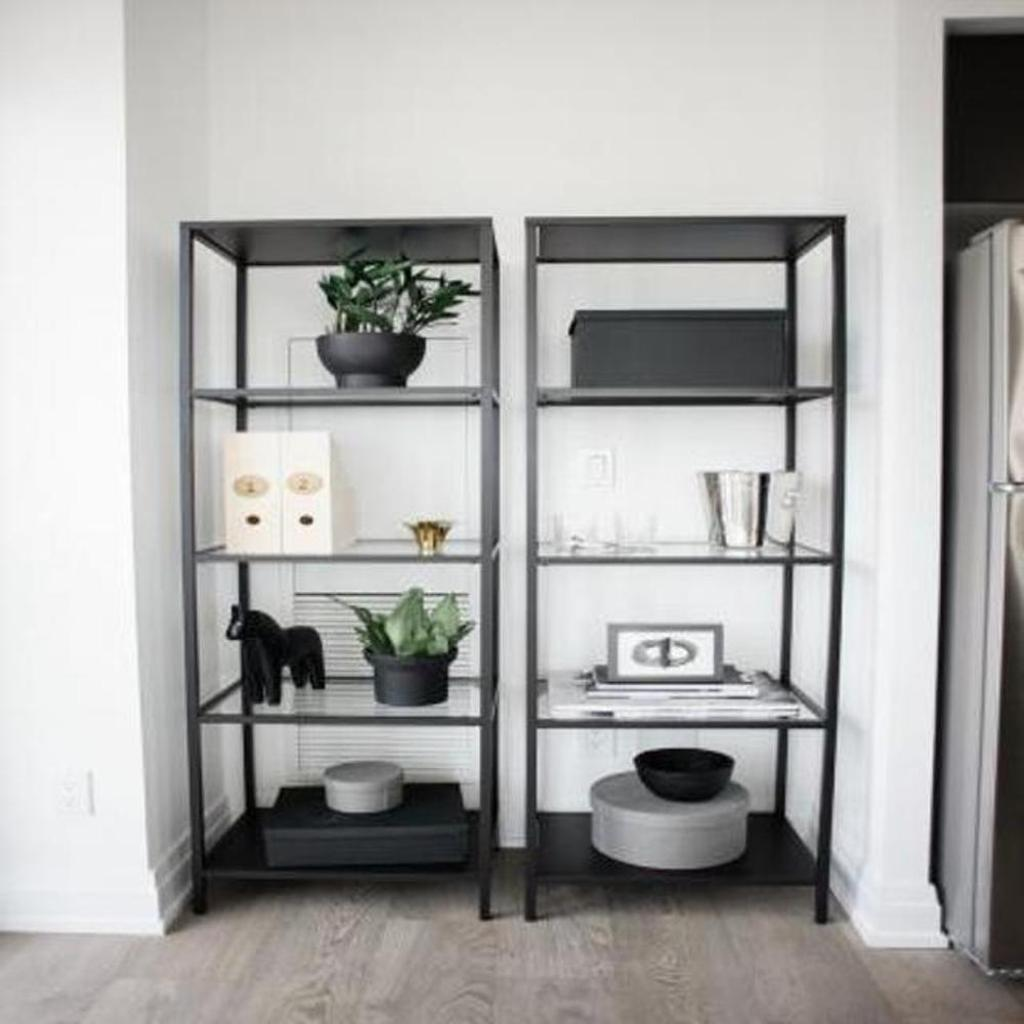lamp: (521, 207, 846, 922), (175, 214, 505, 916)
